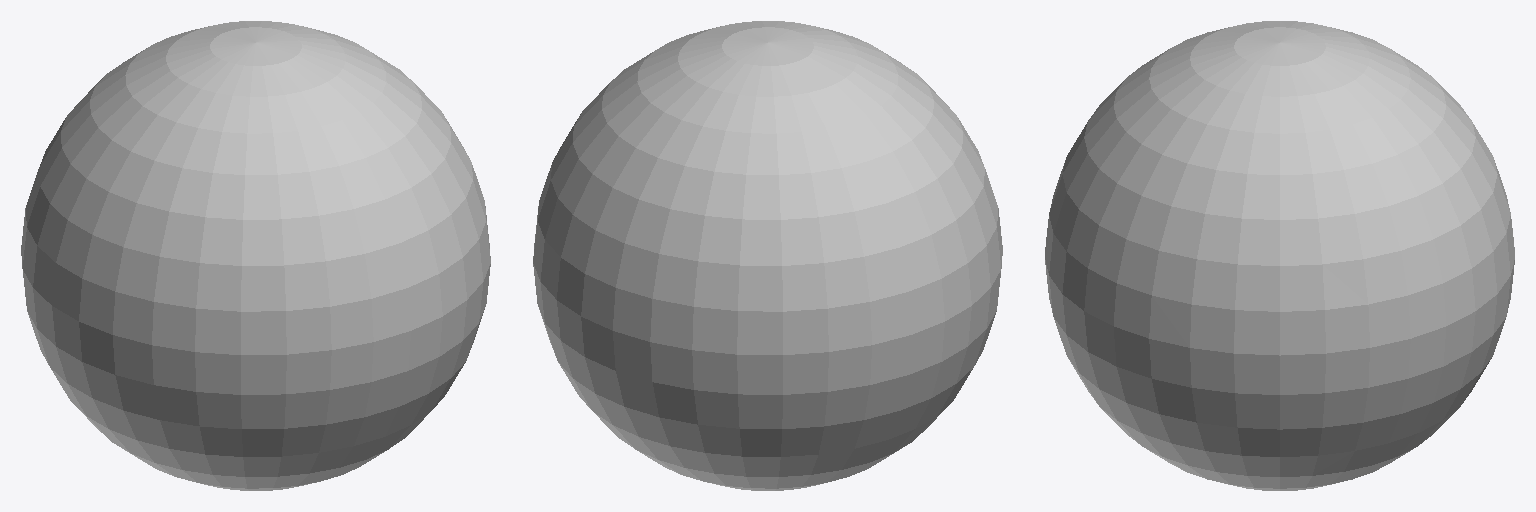
Rendered from retboll.obj.
3 views of the same model, side by side, from view 1: azimuth 30°, elevation 25°; view 2: azimuth 150°, elevation 25°; view 3: azimuth 270°, elevation 25° (orthographic).
Parts seen in each view (by area): view 1: 球.004; view 2: 球.004; view 3: 球.004.
Part boxes in pixels (bbox=[...]): 球.004: bbox=[21, 21, 490, 490]; 球.004: bbox=[533, 21, 1002, 490]; 球.004: bbox=[1045, 21, 1514, 490].
Size of the model in its own units: 0.1 by 0.1 by 0.1.